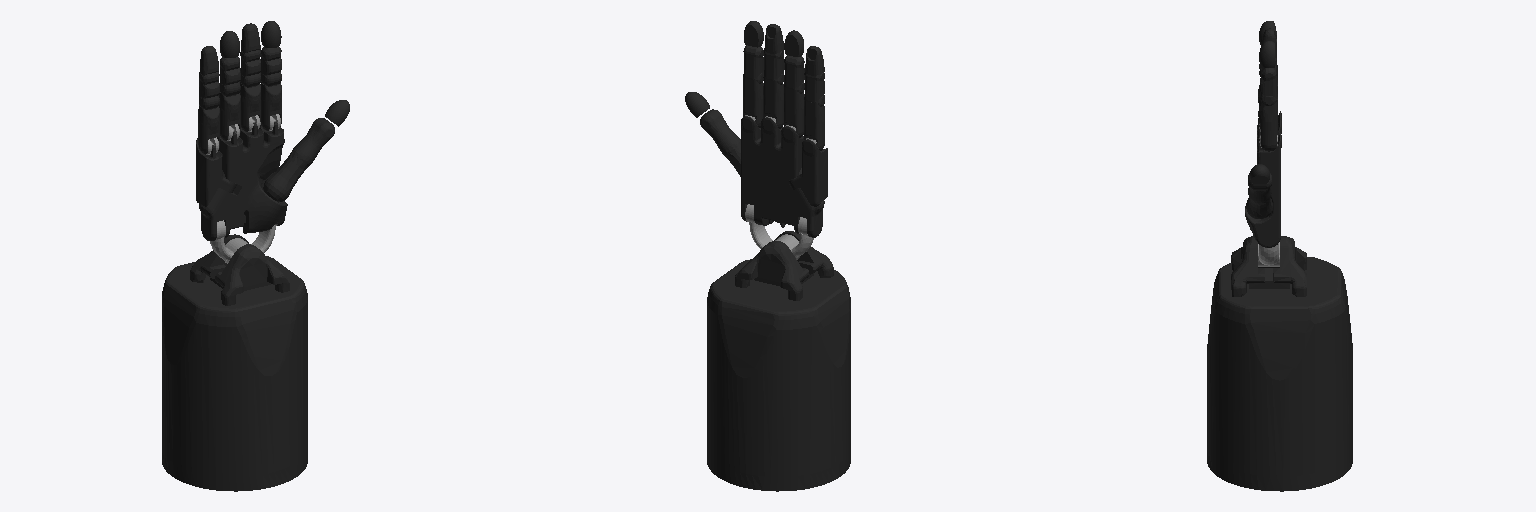
--- What the picture shows (computed from the rendered views, not written in the file) ---
The picture shows the robot from 3 angles, left to right: view 1: azimuth 30°, elevation 25°; view 2: azimuth 150°, elevation 25°; view 3: azimuth 270°, elevation 25°; orthographic projection.
Robot: shadowhand — 30 links, 29 joints (24 revolute, 5 fixed); root link forearm; default pose: all joints at 0.
Visible links, largest first — view 1: forearm, palm, lfmetacarpal, thproximal, thmiddle, wrist, lfproximal, ffproximal, rfproximal, ffmiddle, rfmiddle, mfproximal (+2 smaller); view 2: forearm, palm, lfmetacarpal, wrist, thmiddle, lfproximal, mfproximal, rfproximal, ffproximal, rfmiddle, ffmiddle, mfmiddle (+1 smaller); view 3: forearm, palm, ffproximal, ffmiddle.
Boxes of the visible links, x1,y1,x2,y2 form: forearm: (162,234,307,491); palm: (199,122,287,240); lfmetacarpal: (196,138,236,206); thproximal: (263,150,308,202); thmiddle: (293,118,334,165); wrist: (210,220,277,263); lfproximal: (198,105,219,154); ffproximal: (260,82,281,130); rfproximal: (219,92,240,140); ffmiddle: (261,47,281,86); rfmiddle: (220,57,240,96); mfproximal: (240,82,260,131); forearm: (707,231,850,491); palm: (741,116,824,237); lfmetacarpal: (788,139,827,206); wrist: (745,204,813,259); thmiddle: (700,109,740,156); lfproximal: (804,101,824,150); mfproximal: (763,79,783,128); rfproximal: (784,87,804,137); ffproximal: (743,78,763,127); rfmiddle: (784,55,804,93); ffmiddle: (743,45,763,83); mfmiddle: (763,50,784,84); forearm: (1207,236,1352,491); palm: (1245,113,1281,247); ffproximal: (1258,99,1277,151); ffmiddle: (1259,66,1277,105).
Size in the robot's own frame: 0.1788 by 0.1351 by 0.4454 metres.
Meshes: 11 distinct files referenced, 23 mesh visuals loaded (11 OBJ).

robot.urdf — shadowhand:
<robot name="shadowhand">
  <material name="Blue">
    <color rgba="0.0 0.0 0.8 1.0" />
  </material>
  <material name="Green">
    <color rgba="0.0 0.8 0.0 1.0" />
  </material>
  <material name="Grey">
    <color rgba="0.2 0.2 0.2 1.0" />
  </material>
  <material name="LightGrey">
    <color rgba="0.6 0.6 0.6 1.0" />
  </material>
  <material name="Red">
    <color rgba="0.8 0.0 0.0 1.0" />
  </material>
  <material name="White">
    <color rgba="1.0 1.0 1.0 1.0" />
  </material>
  <link name="forearm">
    <inertial>
      <origin rpy="0 0 0" xyz="0 0 0.09" />
      <mass value="3.0" />
      <inertia ixx="1.0" ixy="0.0" ixz="0.0" iyy="1.0" iyz="0.0" izz="1.0" />
    </inertial>
    <visual>
      <origin rpy="0 0 0" xyz="0 0 0" />
      <geometry name="shadow_forearm_geom">
        <mesh filename="meshes/forearm.obj" scale="0.1 0.1 0.1" />
      </geometry>
      <material name="Grey" />
    </visual>
    <collision>
      <origin rpy="0 0 0" xyz="0 0 0.09" />
      <geometry name="shadow_forearm_collision">
        <cylinder length="0.180" radius="0.06" />
      </geometry>
    </collision>
  </link>
  <link name="wrist">
    <inertial>
      <origin rpy="0 0 0" xyz="0 0.0 0.0" />

      <mass value="0.1" />
      <inertia ixx="0.120" ixy="0.0" ixz="0.0" iyy="0.148" iyz="0.0" izz="0.0438" />
    </inertial>
    <visual>
      <origin rpy="0 0 0" xyz="0 0 0" />
      <geometry name="wrist_visual">
        <mesh filename="meshes/wrist.obj" scale="0.1 0.1 0.1" />
      </geometry>
      <material name="LightGrey" />
    </visual>
    <collision>
      <origin rpy="0 0 0" xyz="0 0 0" />
      <geometry name="wrist_collision_geom">
        <box size="0.02 0.02 0.02" />
      </geometry>
    </collision>
  </link>
  <joint name="WRJ2" type="revolute">
    <parent link="forearm" />
    <child link="wrist" />

    <origin rpy="0 0 0" xyz="0 -0.010 0.213" />
    <axis xyz="0 1 0" />
    <limit effort="5" lower="-0.52359877559829882" upper="0.17453292519943295" velocity="1.0" />
    <dynamics damping="100.5" />
  </joint>
  <link name="palm">
    <inertial>
      <origin rpy="0 0 0" xyz="0 0 0.035" />
      <mass value="0.3" />
      <inertia ixx="0.5" ixy="0.0" ixz="0.0" iyy="0.5" iyz="0.0" izz="0.3" />
    </inertial>
    <visual>
      <origin rpy="0 0 0" xyz="0 0 0" />
      <geometry name="palm_visual">
        <mesh filename="meshes/palm.obj" scale="0.1 0.1 0.1" />
      </geometry>
      <material name="Grey" />
    </visual>
    <collision>
      <origin rpy="0 0 0" xyz="0.005 0 0.035" />
      <geometry name="palm_collision_geom">
        <box size="0.05 0.02 0.07" />
      </geometry>
    </collision>
  </link>
  <joint name="WRJ1" type="revolute">
    <parent link="wrist" />
    <child link="palm" />
    <origin rpy="0 0 0" xyz="0 0 0.034" />
    <axis xyz="1 0 0" />
    <limit effort="5" lower="-0.78539816339744828" upper="0.6108652381980153" velocity="1.0" />
    <dynamics damping="100.5" />
  </joint>
  <link name="ffknuckle">
    <inertial>
      <origin rpy="0 0 0" xyz="0 0 0" />

      <mass value="0.008" />
      <inertia ixx="0.0" ixy="0.0" ixz="0.0" iyy="0.1" iyz="0.0" izz="0.0" />
    </inertial>
    <visual>
      <origin rpy="0 0 0" xyz="0 0 0.0005" />
      <geometry name="knuckle_visual">
        <mesh filename="meshes/knuckle.obj" scale="0.1 0.1 0.1" />
      </geometry>
      <material name="LightGrey" />
    </visual>
    <collision>
      <origin rpy="0 0 0" xyz="0 0 0" />
      <geometry name="knuckle_collision_geom">
        <box size="0.005 0.005 0.005" />
      </geometry>
    </collision>
  </link>
  <joint name="FFJ4" type="revolute">
    <parent link="palm" />
    <child link="ffknuckle" />

    <origin rpy="0 0 0" xyz="0.033 0 0.095" />
    <axis xyz="0 -1 0" />
    <limit effort="100" lower="-0.43633231299858238" upper="0.43633231299858238" velocity="1.0" />
    <dynamics damping="50.5" />
  </joint>
  <link name="ffproximal">
    <inertial>
      <mass value="0.014" />
      <origin xyz="0 0 0.0225" />
      <inertia ixx="0.1" ixy="0.0" ixz="0.0" iyy="0.1" iyz="0.0" izz="0.0" />
    </inertial>
    <visual>
      <origin rpy="0 0 0" xyz="0 0 0" />
      <geometry name="proximal_visual">
        <mesh filename="meshes/F3.obj" scale="0.1 0.1 0.1" />
      </geometry>
      <material name="Grey" />
    </visual>
    <collision>
      <origin rpy="0 0 0 " xyz="0 0 0.025" />
      <geometry name="proximal_collision_geom">
        <box size="0.008 0.008 0.04" />
      </geometry>
    </collision>
  </link>
  <joint name="FFJ3" type="revolute">
    <parent link="ffknuckle" />
    <child link="ffproximal" />
    <origin rpy="0 0 0" xyz="0 0 0" />
    <axis xyz="1 0 0" />
    <limit effort="100" lower="0" upper="1.57079632679" velocity="1.0" />
    <dynamics damping="50.5" />
  </joint>
  <link name="ffmiddle">
    <inertial>
      <origin rpy="0 0 0" xyz="0 0 0.0125" />
      <mass value="0.012" />
      <inertia ixx="0.1" ixy="0.0" ixz="0.0" iyy="0.1" iyz="0.0" izz="0.0" />
    </inertial>
    <visual>
      <origin rpy="0 0 0" xyz="0 0 0" />
      <geometry name="middle_visual">
        <mesh filename="meshes/F2.obj" scale="0.1 0.1 0.1" />
      </geometry>
      <material name="Grey" />
    </visual>
    <collision>
      <origin rpy="0 0 0" xyz="0 0 0.0125" />
      <geometry name="middle_collision_geom">
        <box size="0.008 0.008 0.015" />
      </geometry>
    </collision>
  </link>
  <joint name="FFJ2" type="revolute">
    <parent link="ffproximal" />
    <child link="ffmiddle" />
    <origin rpy="0 0 0" xyz="0 0 0.045" />
    <axis xyz="1 0 0" />
    <limit effort="100" lower="0" upper="1.57079632679" velocity="1.0" />
    <dynamics damping="50.5" />
  </joint>
  <link name="ffdistal">
    <inertial>
      <mass value="0.010" />
      <origin xyz="0 0 0.013" />
      <inertia ixx="0.1" ixy="0.0" ixz="0.0" iyy="0.1" iyz="0.0" izz="0.0" />
    </inertial>
    <visual>
      <origin rpy="0 0 0" xyz="0 0 0" />
      <geometry name="distal_visual">
        <mesh filename="meshes/distal_ellipsoid.obj" scale="0.1 0.1 0.1" />
      </geometry>
      <material name="Grey" />
    </visual>

    <collision>
      <origin rpy="0 0 0" xyz="0 0 0" />
      <geometry name="distal_collision_geom">
        <mesh filename="meshes/distal_ellipsoid.obj" scale="0.1 0.1 0.1" />
      </geometry>
    </collision>
  </link>
  <joint name="FFJ1" type="revolute">
    <parent link="ffmiddle" />
    <child link="ffdistal" />
    <origin rpy="0 0 0" xyz="0 0 0.025" />
    <axis xyz="1 0 0" />
    <limit effort="100" lower="0" upper="1.57079632679" velocity="1.0" />
    <dynamics damping="50.5" />
  </joint>
  <link name="fftip">
    <inertial>
      <mass value="0.001" />
      <inertia ixx="0.0" ixy="0.0" ixz="0.0" iyy="0.0" iyz="0.0" izz="0.0" />
    </inertial>
  </link>
  <joint name="FFtip" type="fixed">
    <parent link="ffdistal" />
    <child link="fftip" />
    <origin rpy="0 0 0" xyz="0 0 0.026" />
  </joint>
  <link name="mfknuckle">
    <inertial>
      <origin rpy="0 0 0" xyz="0 0 0" />

      <mass value="0.008" />
      <inertia ixx="0.0" ixy="0.0" ixz="0.0" iyy="0.1" iyz="0.0" izz="0.0" />
    </inertial>
    <visual>
      <origin rpy="0 0 0" xyz="0 0 0.0005" />
      <geometry name="knuckle_visual">
        <mesh filename="meshes/knuckle.obj" scale="0.1 0.1 0.1" />
      </geometry>
      <material name="LightGrey" />
    </visual>
    <collision>
      <origin rpy="0 0 0" xyz="0 0 0" />
      <geometry name="knuckle_collision_geom">
        <box size="0.005 0.005 0.005" />
      </geometry>
    </collision>
  </link>
  <joint name="MFJ4" type="revolute">
    <parent link="palm" />
    <child link="mfknuckle" />

    <origin rpy="0 0 0" xyz="0.011 0 0.099" />
    <axis xyz="0 -1 0" />
    <limit effort="100" lower="-0.43633231299858238" upper="0.43633231299858238" velocity="1.0" />
    <dynamics damping="50.5" />
  </joint>
  <link name="mfproximal">
    <inertial>
      <mass value="0.014" />
      <origin xyz="0 0 0.0225" />
      <inertia ixx="0.1" ixy="0.0" ixz="0.0" iyy="0.1" iyz="0.0" izz="0.0" />
    </inertial>
    <visual>
      <origin rpy="0 0 0" xyz="0 0 0" />
      <geometry name="proximal_visual">
        <mesh filename="meshes/F3.obj" scale="0.1 0.1 0.1" />
      </geometry>
      <material name="Grey" />
    </visual>
    <collision>
      <origin rpy="0 0 0 " xyz="0 0 0.025" />
      <geometry name="proximal_collision_geom">
        <box size="0.008 0.008 0.04" />
      </geometry>
    </collision>
  </link>
  <joint name="MFJ3" type="revolute">
    <parent link="mfknuckle" />
    <child link="mfproximal" />
    <origin rpy="0 0 0" xyz="0 0 0" />
    <axis xyz="1 0 0" />
    <limit effort="100" lower="0" upper="1.57079632679" velocity="1.0" />
    <dynamics damping="50.5" />
  </joint>
  <link name="mfmiddle">
    <inertial>
      <origin rpy="0 0 0" xyz="0 0 0.0125" />
      <mass value="0.012" />
      <inertia ixx="0.1" ixy="0.0" ixz="0.0" iyy="0.1" iyz="0.0" izz="0.0" />
    </inertial>
    <visual>
      <origin rpy="0 0 0" xyz="0 0 0" />
      <geometry name="middle_visual">
        <mesh filename="meshes/F2.obj" scale="0.1 0.1 0.1" />
      </geometry>
      <material name="Grey" />
    </visual>
    <collision>
      <origin rpy="0 0 0" xyz="0 0 0.0125" />
      <geometry name="middle_collision_geom">
        <box size="0.008 0.008 0.015" />
      </geometry>
    </collision>
  </link>
  <joint name="MFJ2" type="revolute">
    <parent link="mfproximal" />
    <child link="mfmiddle" />
    <origin rpy="0 0 0" xyz="0 0 0.045" />
    <axis xyz="1 0 0" />
    <limit effort="100" lower="0" upper="1.57079632679" velocity="1.0" />
    <dynamics damping="50.5" />
  </joint>
  <link name="mfdistal">
    <inertial>
      <mass value="0.010" />
      <origin xyz="0 0 0.013" />
      <inertia ixx="0.1" ixy="0.0" ixz="0.0" iyy="0.1" iyz="0.0" izz="0.0" />
    </inertial>
    <visual>
      <origin rpy="0 0 0" xyz="0 0 0" />
      <geometry name="distal_visual">
        <mesh filename="meshes/F1.obj" scale="0.1 0.1 0.1" />
      </geometry>
      <material name="Grey" />
    </visual>

    <collision>
      <origin rpy="0 0 0" xyz="0 0 0" />
      <geometry name="distal_collision_geom">
        <mesh filename="meshes/F1.obj" scale="0.1 0.1 0.1" />
      </geometry>
    </collision>
  </link>
  <joint name="MFJ1" type="revolute">
    <parent link="mfmiddle" />
    <child link="mfdistal" />
    <origin rpy="0 0 0" xyz="0 0 0.025" />
    <axis xyz="1 0 0" />
    <limit effort="100" lower="0" upper="1.57079632679" velocity="1.0" />
    <dynamics damping="50.5" />
  </joint>
  <link name="mftip">
    <inertial>
      <mass value="0.001" />
      <inertia ixx="0.0" ixy="0.0" ixz="0.0" iyy="0.0" iyz="0.0" izz="0.0" />
    </inertial>
  </link>
  <joint name="MFtip" type="fixed">
    <parent link="mfdistal" />
    <child link="mftip" />
    <origin rpy="0 0 0" xyz="0 0 0.026" />
  </joint>
  <link name="rfknuckle">
    <inertial>
      <origin rpy="0 0 0" xyz="0 0 0" />

      <mass value="0.008" />
      <inertia ixx="0.0" ixy="0.0" ixz="0.0" iyy="0.1" iyz="0.0" izz="0.0" />
    </inertial>
    <visual>
      <origin rpy="0 0 0" xyz="0 0 0.0005" />
      <geometry name="knuckle_visual">
        <mesh filename="meshes/knuckle.obj" scale="0.1 0.1 0.1" />
      </geometry>
      <material name="LightGrey" />
    </visual>
    <collision>
      <origin rpy="0 0 0" xyz="0 0 0" />
      <geometry name="knuckle_collision_geom">
        <box size="0.005 0.005 0.005" />
      </geometry>
    </collision>
  </link>
  <joint name="RFJ4" type="revolute">
    <parent link="palm" />
    <child link="rfknuckle" />

    <origin rpy="0 0 0" xyz="-0.011 0 0.095" />
    <axis xyz="0 1 0" />
    <limit effort="100" lower="-0.43633231299858238" upper="0.43633231299858238" velocity="1.0" />
    <dynamics damping="50.5" />
  </joint>
  <link name="rfproximal">
    <inertial>
      <mass value="0.014" />
      <origin xyz="0 0 0.0225" />
      <inertia ixx="0.1" ixy="0.0" ixz="0.0" iyy="0.1" iyz="0.0" izz="0.0" />
    </inertial>
    <visual>
      <origin rpy="0 0 0" xyz="0 0 0" />
      <geometry name="proximal_visual">
        <mesh filename="meshes/F3.obj" scale="0.1 0.1 0.1" />
      </geometry>
      <material name="Grey" />
    </visual>
    <collision>
      <origin rpy="0 0 0 " xyz="0 0 0.025" />
      <geometry name="proximal_collision_geom">
        <box size="0.008 0.008 0.04" />
      </geometry>
    </collision>
  </link>
  <joint name="RFJ3" type="revolute">
    <parent link="rfknuckle" />
    <child link="rfproximal" />
    <origin rpy="0 0 0" xyz="0 0 0" />
    <axis xyz="1 0 0" />
    <limit effort="100" lower="0" upper="1.57079632679" velocity="1.0" />
    <dynamics damping="50.5" />
  </joint>
  <link name="rfmiddle">
    <inertial>
      <origin rpy="0 0 0" xyz="0 0 0.0125" />
      <mass value="0.012" />
      <inertia ixx="0.1" ixy="0.0" ixz="0.0" iyy="0.1" iyz="0.0" izz="0.0" />
    </inertial>
    <visual>
      <origin rpy="0 0 0" xyz="0 0 0" />
      <geometry name="middle_visual">
        <mesh filename="meshes/F2.obj" scale="0.1 0.1 0.1" />
      </geometry>
      <material name="Grey" />
    </visual>
    <collision>
      <origin rpy="0 0 0" xyz="0 0 0.0125" />
      <geometry name="middle_collision_geom">
        <box size="0.008 0.008 0.015" />
      </geometry>
    </collision>
  </link>
  <joint name="RFJ2" type="revolute">
    <parent link="rfproximal" />
    <child link="rfmiddle" />
    <origin rpy="0 0 0" xyz="0 0 0.045" />
    <axis xyz="1 0 0" />
    <limit effort="100" lower="0" upper="1.57079632679" velocity="1.0" />
    <dynamics damping="50.5" />
  </joint>
  <link name="rfdistal">
    <inertial>
      <mass value="0.010" />
      <origin xyz="0 0 0.013" />
      <inertia ixx="0.1" ixy="0.0" ixz="0.0" iyy="0.1" iyz="0.0" izz="0.0" />
    </inertial>
    <visual>
      <origin rpy="0 0 0" xyz="0 0 0" />
      <geometry name="distal_visual">
        <mesh filename="meshes/distal_ellipsoid.obj" scale="0.1 0.1 0.1" />
      </geometry>
      <material name="Grey" />
    </visual>

    <collision>
      <origin rpy="0 0 0" xyz="0 0 0" />
      <geometry name="distal_collision_geom">
        <mesh filename="meshes/distal_ellipsoid.obj" scale="0.1 0.1 0.1" />
      </geometry>
    </collision>
  </link>
  <joint name="RFJ1" type="revolute">
    <parent link="rfmiddle" />
    <child link="rfdistal" />
    <origin rpy="0 0 0" xyz="0 0 0.025" />
    <axis xyz="1 0 0" />
    <limit effort="100" lower="0" upper="1.57079632679" velocity="1.0" />
    <dynamics damping="50.5" />
  </joint>
  <link name="rftip">
    <inertial>
      <mass value="0.001" />
      <inertia ixx="0.0" ixy="0.0" ixz="0.0" iyy="0.0" iyz="0.0" izz="0.0" />
    </inertial>
  </link>
  <joint name="RFtip" type="fixed">
    <parent link="rfdistal" />
    <child link="rftip" />
    <origin rpy="0 0 0" xyz="0 0 0.026" />
  </joint>
  <link name="lfmetacarpal">
    <inertial>
      <origin rpy="0 0 0" xyz="0 0 0.04" />
      <mass value="0.075" />
      <inertia ixx="0.1" ixy="0.0" ixz="0.0" iyy="0.1" iyz="0.0" izz="0.1" />
    </inertial>
    <visual>
      <origin rpy="0 0 0" xyz="0 0 0" />
      <geometry name="lfmetacarpal_visual">
        <mesh filename="meshes/lfmetacarpal.obj" scale="0.1 0.1 0.1" />
      </geometry>
      <material name="Grey" />
    </visual>
    <collision>
      <origin rpy="0 0 0" xyz="0 0 0.04" />
      <geometry name="lfmetacarpal_collision_geom">
        <box size="0.008 0.008 0.03" />
      </geometry>
    </collision>
  </link>
  <joint name="LFJ5" type="revolute">
    <parent link="palm" />
    <child link="lfmetacarpal" />
    <origin rpy="0 0 0" xyz="-0.033 0 0.02071" />
    <axis xyz="0.573576436 0 0.819152044" />
    <limit effort="100" lower="0" upper="0.69813170079773179" velocity="1.0" />
    <dynamics damping="50.5" />
  </joint>
  <link name="lfknuckle">
    <inertial>
      <origin rpy="0 0 0" xyz="0 0 0.06579" />
      <mass value="0.008" />
      <inertia ixx="0.1" ixy="0.0" ixz="0.0" iyy="0.1" iyz="0.0" izz="0.1" />
    </inertial>
    <visual>
      <origin rpy="0 0 0" xyz="0 0 0" />
      <geometry name="knuckle_visual">
        <mesh filename="meshes/knuckle.obj" scale="0.1 0.1 0.1" />
      </geometry>
      <material name="LightGrey" />
    </visual>
    <collision>
      <origin rpy="0 0 0" xyz="0 0 0" />
      <geometry name="knuckle_collision_geom">
        <box size="0.005 0.005 0.005" />
      </geometry>
    </collision>
  </link>
  <joint name="LFJ4" type="revolute">
    <parent link="lfmetacarpal" />
    <child link="lfknuckle" />
    <origin rpy="0 0 0" xyz="0 0 0.06579" />
    <axis xyz="0 1 0" />
    <limit effort="100" lower="-0.43633231299858238" upper="0.43633231299858238" velocity="1.0" />
    <dynamics damping="50.5" />
  </joint>
  <link name="lfproximal">
    <inertial>
      <mass value="0.014" />
      <origin xyz="0 0 0.0225" />
      <inertia ixx="0.1" ixy="0.0" ixz="0.0" iyy="0.1" iyz="0.0" izz="0.0" />
    </inertial>
    <visual>
      <origin rpy="0 0 0" xyz="0 0 0" />
      <geometry name="proximal_visual">
        <mesh filename="meshes/F3.obj" scale="0.1 0.1 0.1" />
      </geometry>
      <material name="Grey" />
    </visual>
    <collision>
      <origin rpy="0 0 0 " xyz="0 0 0.025" />
      <geometry name="proximal_collision_geom">
        <box size="0.008 0.008 0.04" />
      </geometry>
    </collision>
  </link>
  <joint name="LFJ3" type="revolute">
    <parent link="lfknuckle" />
    <child link="lfproximal" />
    <origin rpy="0 0 0" xyz="0 0 0" />
    <axis xyz="1 0 0" />
    <limit effort="100" lower="0" upper="1.57079632679" velocity="1.0" />
    <dynamics damping="50.5" />
  </joint>
  <link name="lfmiddle">
    <inertial>
      <origin rpy="0 0 0" xyz="0 0 0.0125" />
      <mass value="0.012" />
      <inertia ixx="0.1" ixy="0.0" ixz="0.0" iyy="0.1" iyz="0.0" izz="0.0" />
    </inertial>
    <visual>
      <origin rpy="0 0 0" xyz="0 0 0" />
      <geometry name="middle_visual">
        <mesh filename="meshes/F2.obj" scale="0.1 0.1 0.1" />
      </geometry>
      <material name="Grey" />
    </visual>
    <collision>
      <origin rpy="0 0 0" xyz="0 0 0.0125" />
      <geometry name="middle_collision_geom">
        <box size="0.008 0.008 0.015" />
      </geometry>
    </collision>
  </link>
  <joint name="LFJ2" type="revolute">
    <parent link="lfproximal" />
    <child link="lfmiddle" />
    <origin rpy="0 0 0" xyz="0 0 0.045" />
    <axis xyz="1 0 0" />
    <limit effort="100" lower="0" upper="1.57079632679" velocity="1.0" />
    <dynamics damping="50.5" />
  </joint>
  <link name="lfdistal">
    <inertial>
      <mass value="0.010" />
      <origin xyz="0 0 0.013" />
      <inertia ixx="0.1" ixy="0.0" ixz="0.0" iyy="0.1" iyz="0.0" izz="0.0" />
    </inertial>
    <visual>
      <origin rpy="0 0 0" xyz="0 0 0" />
      <geometry name="distal_visual">
        <mesh filename="meshes/F1.obj" scale="0.1 0.1 0.1" />
      </geometry>
      <material name="Grey" />
    </visual>

    <collision>
      <origin rpy="0 0 0" xyz="0 0 0" />
      <geometry name="distal_collision_geom">
        <mesh filename="meshes/F1.obj" scale="0.1 0.1 0.1" />
      </geometry>
    </collision>
  </link>
  <joint name="LFJ1" type="revolute">
    <parent link="lfmiddle" />
    <child link="lfdistal" />
    <origin rpy="0 0 0" xyz="0 0 0.025" />
    <axis xyz="1 0 0" />
    <limit effort="100" lower="0" upper="1.57079632679" velocity="1.0" />
    <dynamics damping="50.5" />
  </joint>
  <link name="lftip">
    <inertial>
      <mass value="0.001" />
      <inertia ixx="0.0" ixy="0.0" ixz="0.0" iyy="0.0" iyz="0.0" izz="0.0" />
    </inertial>
  </link>
  <joint name="LFtip" type="fixed">
    <parent link="lfdistal" />
    <child link="lftip" />
    <origin rpy="0 0 0" xyz="0 0 0.026" />
  </joint>
  <link name="thbase">
    <inertial>
      <mass value="0.010" />
      <origin rpy="0 0 0" xyz="0 0 0" />
      <inertia ixx="0.0" ixy="0.0" ixz="0.0" iyy="0.0" iyz="0.0" izz="0.1" />
    </inertial>
    <visual>
      <origin rpy="0 0 0" xyz="0 0 0" />
      <geometry name="thbase_visual">
        <box size="0.001 0.001 0.001" />
      </geometry>
      <material name="shadow_thbase_material">
        <color rgba="0.5 0.5 0.5 1.0" />
      </material>
    </visual>
    <collision>
      <origin rpy="0 0 0 " xyz="0 0 0" />
      <geometry name="thbase_collision_geom">
        <box size="0.001 0.001 0.001" />
      </geometry>
    </collision>
  </link>
  <joint name="THJ5" type="revolute">
    <parent link="palm" />
    <child link="thbase" />
    <origin rpy="0 0.785398163397 0" xyz="0.034 -0.0085 0.029" />
    <axis xyz="0 0 -1.0" />
    <limit effort="100" lower="-1.047" upper="1.047" velocity="1.0" />
    <dynamics damping="50.5" />
  </joint>
  <link name="thproximal">
    <inertial>
      <mass value="0.016" />
      <origin rpy="0 0 0" xyz="0 0 0.019" />
      <inertia ixx="0.1" ixy="0.0" ixz="0.0" iyy="0.1" iyz="0.0" izz="0.1" />
    </inertial>
    <visual>
      <origin rpy="0 0 0" xyz="0 0 0" />
      <geometry name="thproximal_visual">
        <mesh filename="meshes/TH3_z.obj" scale="0.1 0.1 0.1" />
      </geometry>
      <material name="shadow_thproximal_material">
        <color rgba="0.2 0.2 0.2 1.0" />
      </material>
    </visual>
    <collision>
      <origin rpy="0 0 0" xyz="0 0 0.019" />
      <geometry name="thproximal_collision_geom">
        <box size="0.008 0.008 0.020" />
      </geometry>
    </collision>
  </link>
  <joint name="THJ4" type="revolute">
    <parent link="thbase" />
    <child link="thproximal" />
    <origin rpy="0 0 0" xyz="0 0 0" />
    <axis xyz="1.0 0 0" />
    <limit effort="100" lower="0" upper="1.309" velocity="1.0" />
    <dynamics damping="50.5" />
  </joint>
  <link name="thhub">
    <inertial>
      <mass value="0.002" />
      <origin rpy="0 0 0" xyz="0 0 0" />
      <inertia ixx="0.1" ixy="0.0" ixz="0.0" iyy="0.1" iyz="0.0" izz="0.1" />
    </inertial>
    <visual>
      <origin rpy="0 0 0" xyz="0 0 0" />
      <geometry name="thhub_visual">
        <box size="0.001 0.001 0.001" />
      </geometry>
      <material name="shadow_thhub_material">
        <color rgba="0.7 0.7 0.7 1.0" />
      </material>
    </visual>
    <collision>
      <origin rpy="0 0 0 " xyz="0 0 0" />
      <geometry name="thhub_collision_geom">
        <box size="0.001 0.001 0.001" />
      </geometry>
    </collision>
  </link>
  <joint name="THJ3" type="revolute">
    <parent link="thproximal" />
    <child link="thhub" />
    <origin rpy="0 0 0" xyz="0 0 0.038" />
    <axis xyz="1 0 0" />
    <limit effort="100" lower="-0.2618" upper="0.2618" velocity="1.0" />
    <dynamics damping="50.5" />
  </joint>
  <link name="thmiddle">
    <inertial>
      <mass value="0.016" />
      <origin rpy="0 0 0" xyz="0 0 0.016" />
      <inertia ixx="0.1" ixy="0.0" ixz="0.0" iyy="0.1" iyz="0.0" izz="0.1" />
    </inertial>
    <visual>
      <origin rpy="0 0 0" xyz="0 0 0" />
      <geometry name="thmiddle_visual">
        <mesh filename="meshes/TH2_z.obj" scale="0.1 0.1 0.1" />
      </geometry>
      <material name="shadow_thmiddle_material">
        <color rgba="0.2 0.2 0.2 1.0" />
      </material>
    </visual>
    <collision>
      <origin rpy="0 0 0 " xyz="0 0 0.016" />
      <geometry name="thmiddle_collision_geom">
        <box size="0.008 0.008 0.015" />
      </geometry>
    </collision>
  </link>
  <joint name="THJ2" type="revolute">
    <parent link="thhub" />
    <child link="thmiddle" />
    <origin rpy="0 0 0" xyz="0 0 0" />
    <axis xyz="0 -1 0" />
    <limit effort="100" lower="-0.5237" upper="0.5237" velocity="1.0" />
    <dynamics damping="50.5" />
  </joint>
  <link name="thdistal">
    <inertial>
      <mass value="0.016" />
      <origin rpy="0 0 0" xyz="0 0 0.01375" />
      <inertia ixx="0.1" ixy="0.0" ixz="0.0" iyy="0.1" iyz="0.0" izz="0.1" />
    </inertial>
    <visual>
      <origin rpy="0 0 0" xyz="0 0.002 0.0025" />
      <geometry name="thdistal_visual">
        <mesh filename="meshes/distal_ellipsoid.obj" scale="0.1 0.1 0.1" />
      </geometry>
      <material name="shadow_thmiddle_material">
        <color rgba="0.2 0.2 0.2 1.0" />
      </material>
    </visual>
    <collision>
      <origin rpy="0 0 0 " xyz="0 0.002 0.0025" />
      <geometry name="thmiddle_collision_geom">
        <mesh filename="meshes/distal_ellipsoid.obj" scale="0.1 0.1 0.1" />
      </geometry>
    </collision>
  </link>
  <joint name="THJ1" type="revolute">
    <parent link="thmiddle" />
    <child link="thdistal" />
    <origin rpy="0 0 -1.570796327" xyz="0 0 0.032" />
    <axis xyz="1 0 0" />
    <limit effort="100" lower="0" upper="1.571" velocity="1.0" />
    <dynamics damping="50.5" />
  </joint>
  <link name="thtip">
    <inertial>
      <mass value="0.001" />
      <inertia ixx="0.0" ixy="0.0" ixz="0.0" iyy="0.0" iyz="0.0" izz="0.0" />
    </inertial>
  </link>
  <joint name="thtip" type="fixed">
    <parent link="thdistal" />
    <child link="thtip" />
    <origin rpy="0 0 0" xyz="0 0 0.0275" />
  </joint>
  </robot>
